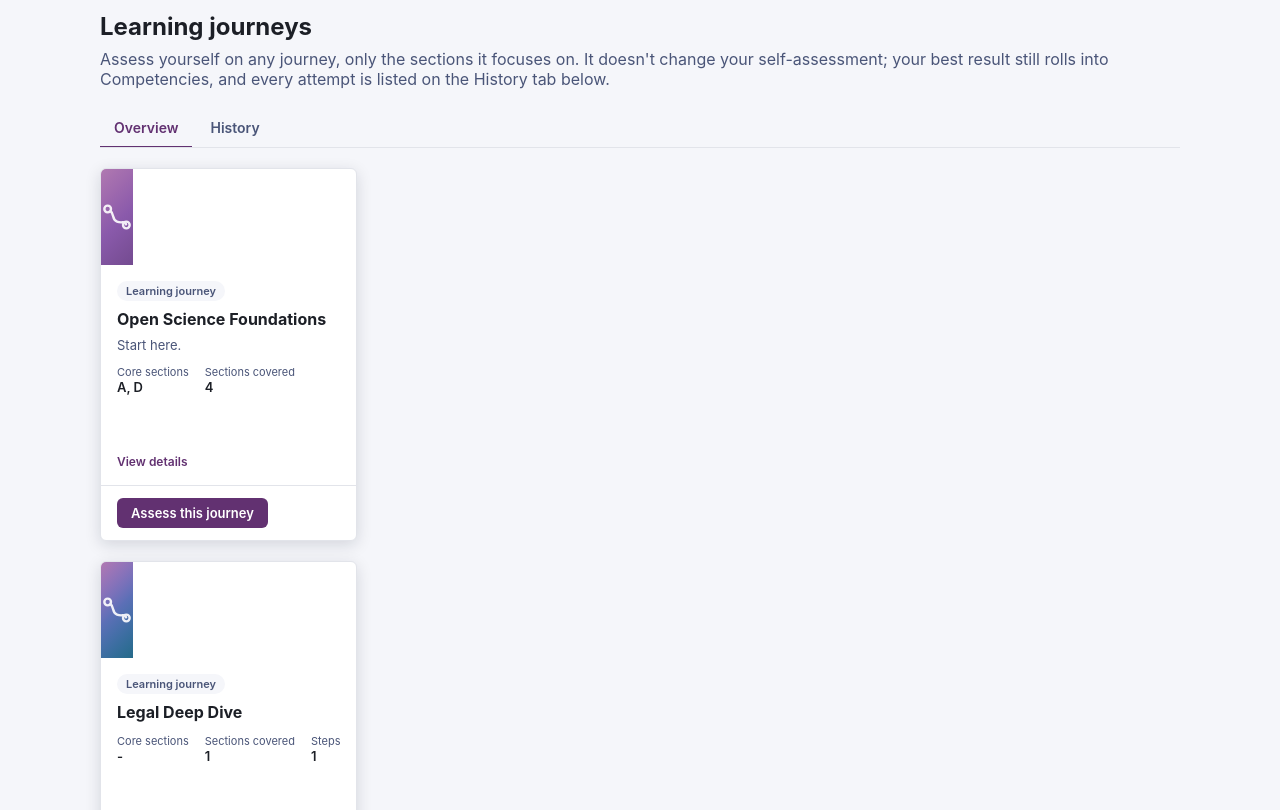
LearningJourneysPage's History tab › lists every past journey attempt, most recent first, numbered per journey
Click the tab "History": point(235, 128) x1=196 y1=109 x2=274 y2=148
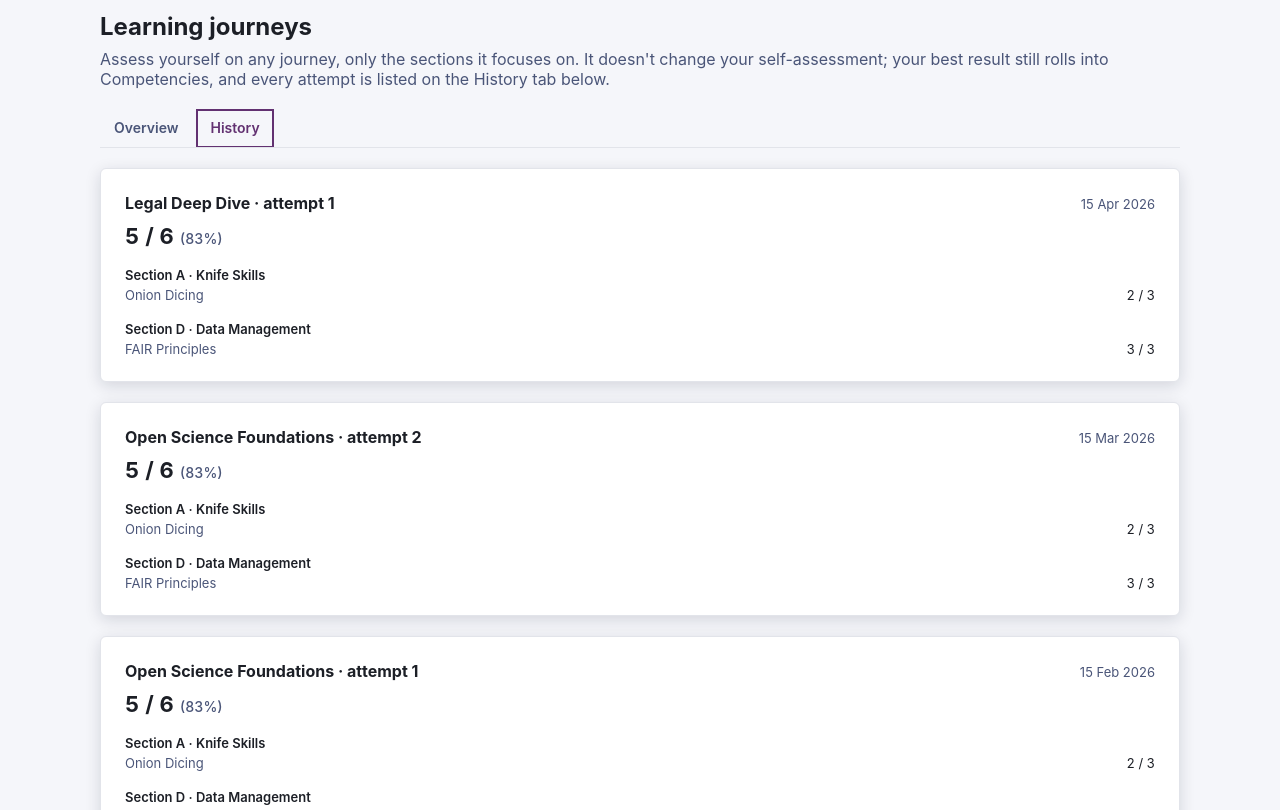
Check: the headings read "Legal Deep Dive · attempt 1", "Open Science Foundations · attempt 2", "Open Science Foundations · attempt 1", in this order, box x1=125 y1=193 x2=335 y2=213; x1=125 y1=427 x2=422 y2=447; x1=125 y1=661 x2=418 y2=681
